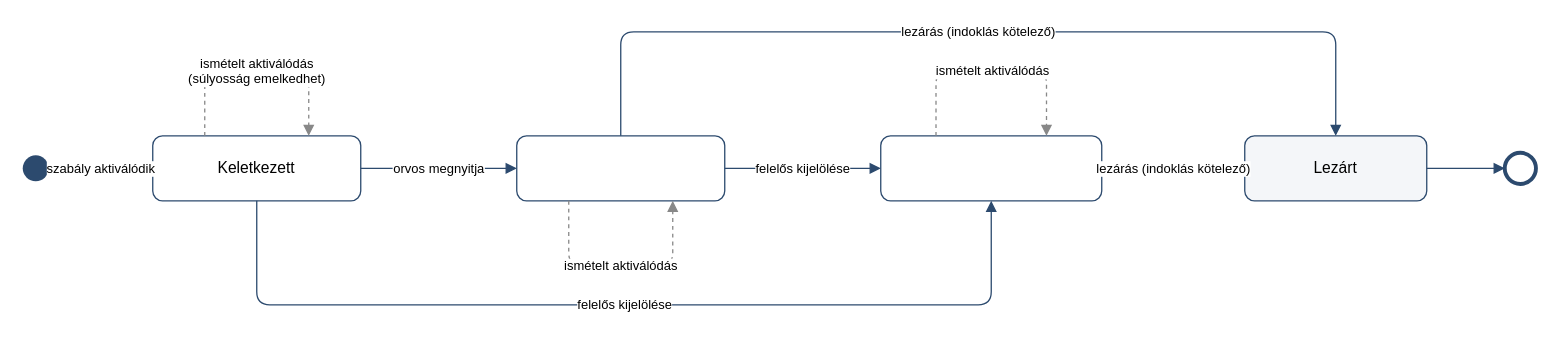
Some shapes in this 1560 by 338 pixel diagram are drawn without their labels. Each missing label, with the centre of its shape:
"Felelőshöz rendelt" belongs at [990,168].
"Megtekintett" belongs at [620,168].
